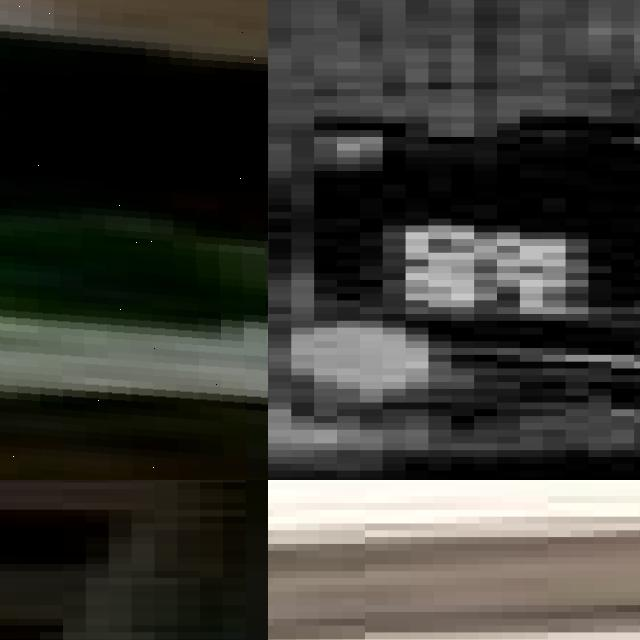street light: (0, 0, 268, 480)
